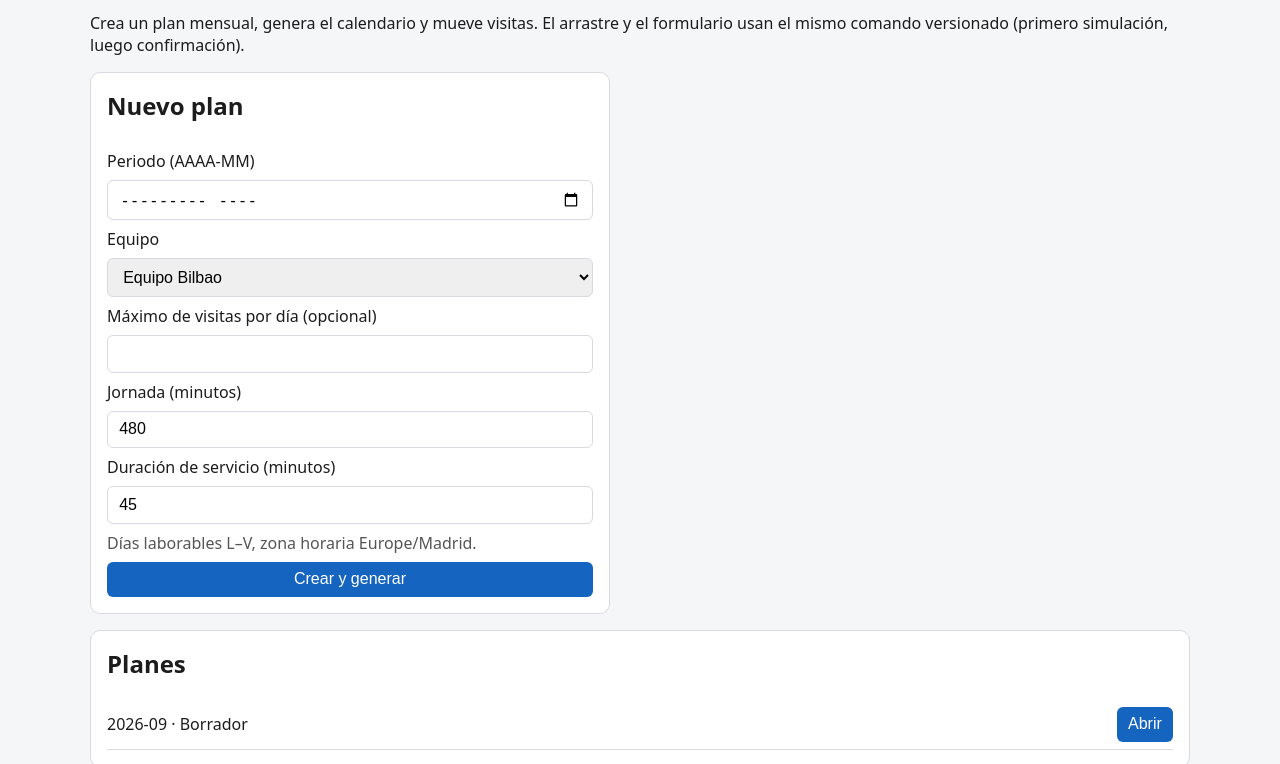
Test case: PlanCalendarPage (2.FE.2) › no muestra badge en el chip si listZones no conoce el kind
This screenshot has width=1280, height=764.
(page scrolled)
Click the button with test id "plan-open-plan-1": (1145,724) [1117,707,1173,742]
(page scrolled)
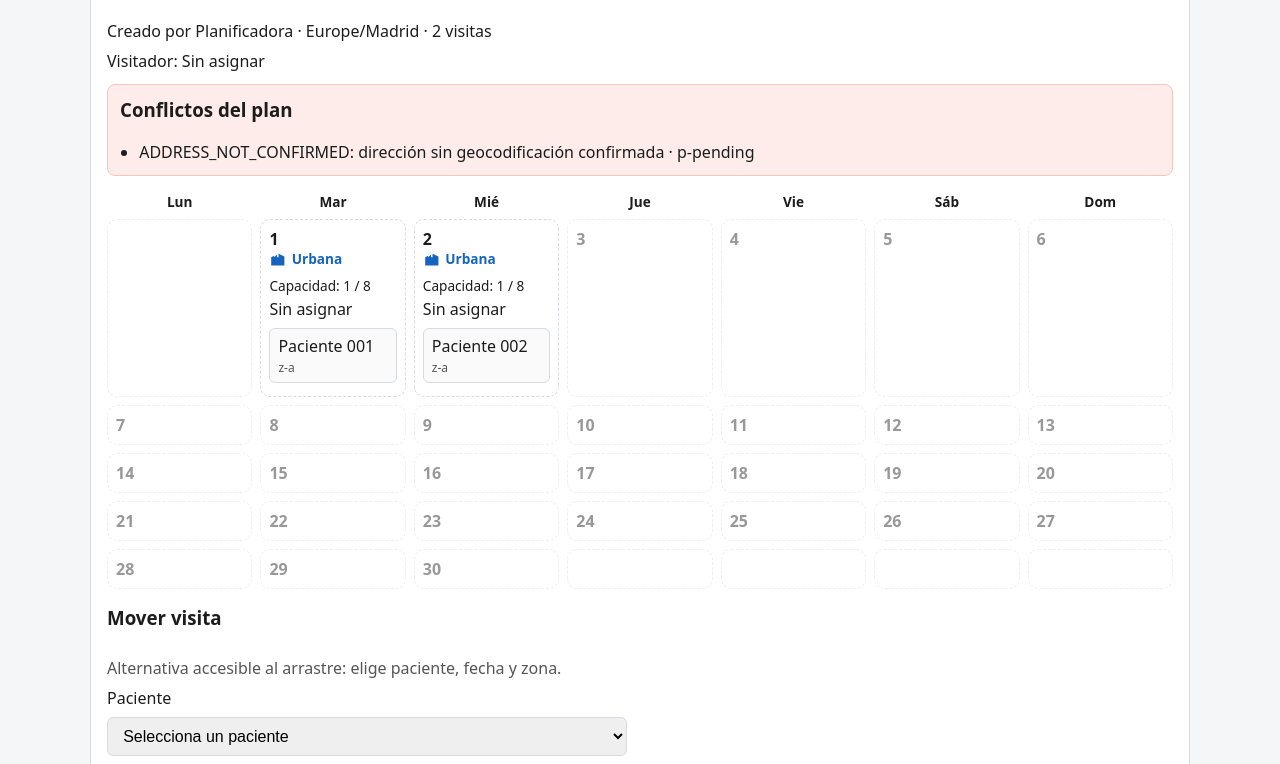
Now the text "z-a" below "Paciente 001" is shown, box [278,359,295,376]
